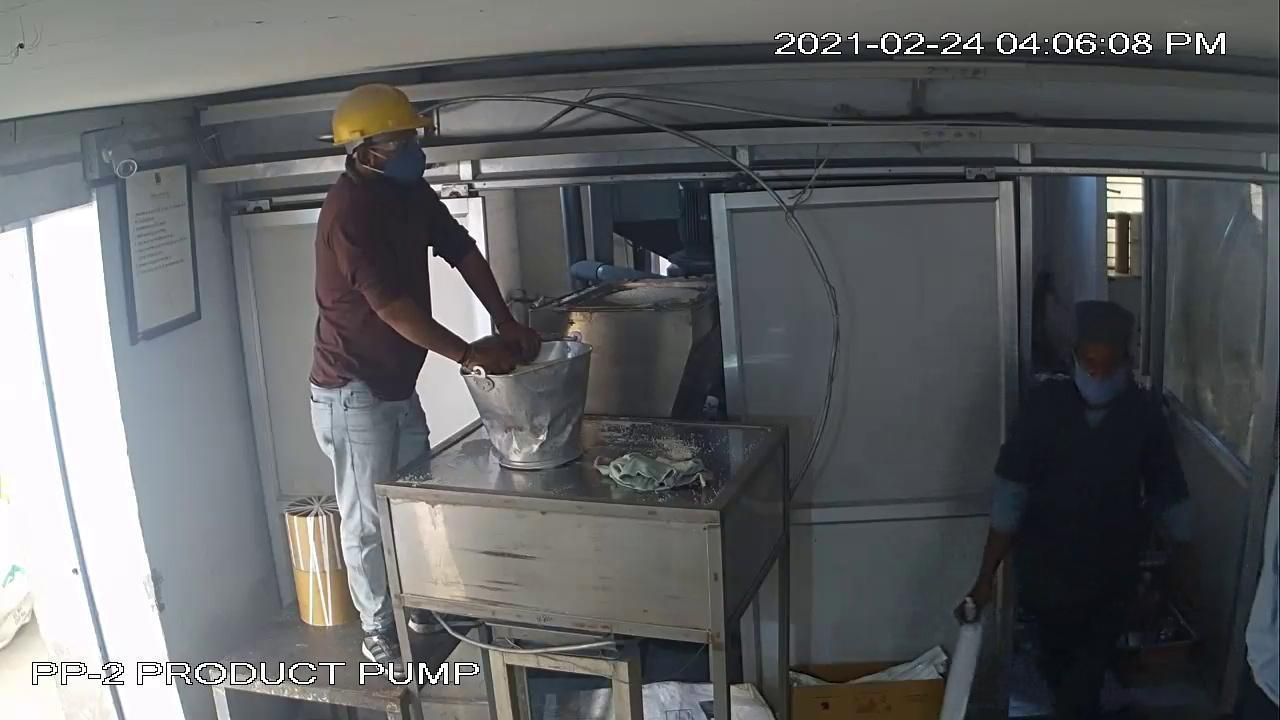helmet: (316, 70, 442, 151)
